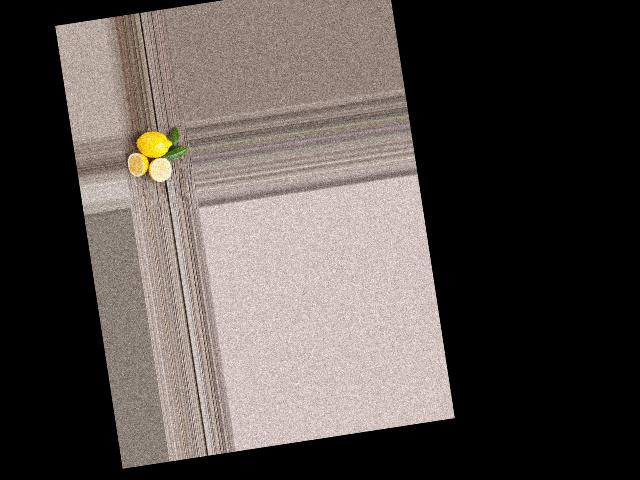lemon: (135, 130, 176, 162)
